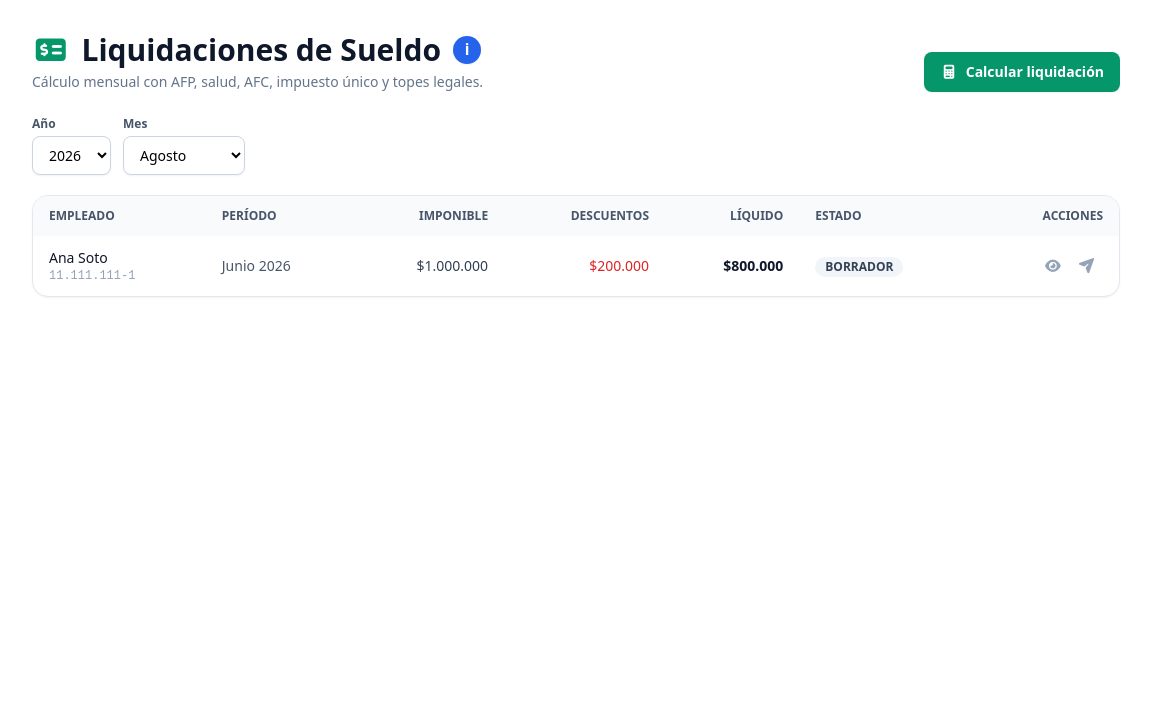
Scenario: LiquidacionesRrhh › ver detalle abre el modal con los conceptos de la liquidacion
Expected: the text "Ana Soto 11.111.111-1" is shown, x1=33 y1=236 x2=206 y2=296
Click the button titled "Ver detalle".
click(1053, 266)  # box x1=1036 y1=256 x2=1070 y2=276
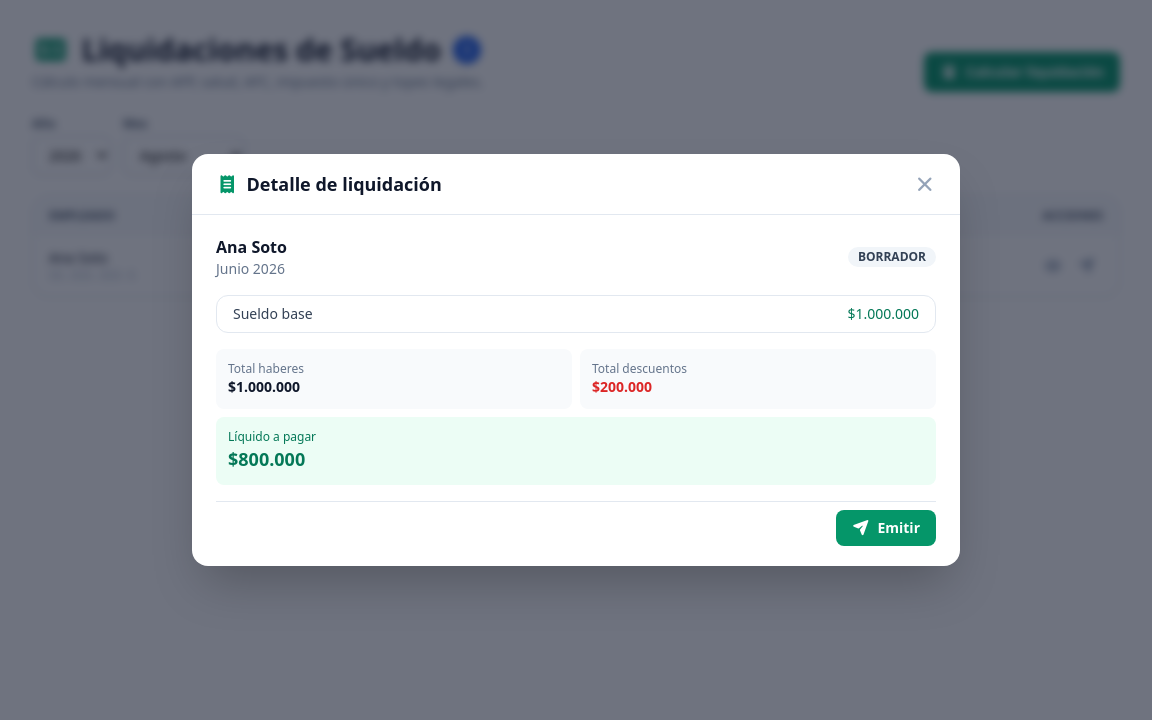
Expected: the heading "Detalle de liquidación" is shown, x1=216 y1=170 x2=442 y2=198
Expected: the text "Sueldo base" is shown, x1=217 y1=296 x2=589 y2=332
Expected: the text "Líquido a pagar" is shown, x1=228 y1=428 x2=316 y2=445
